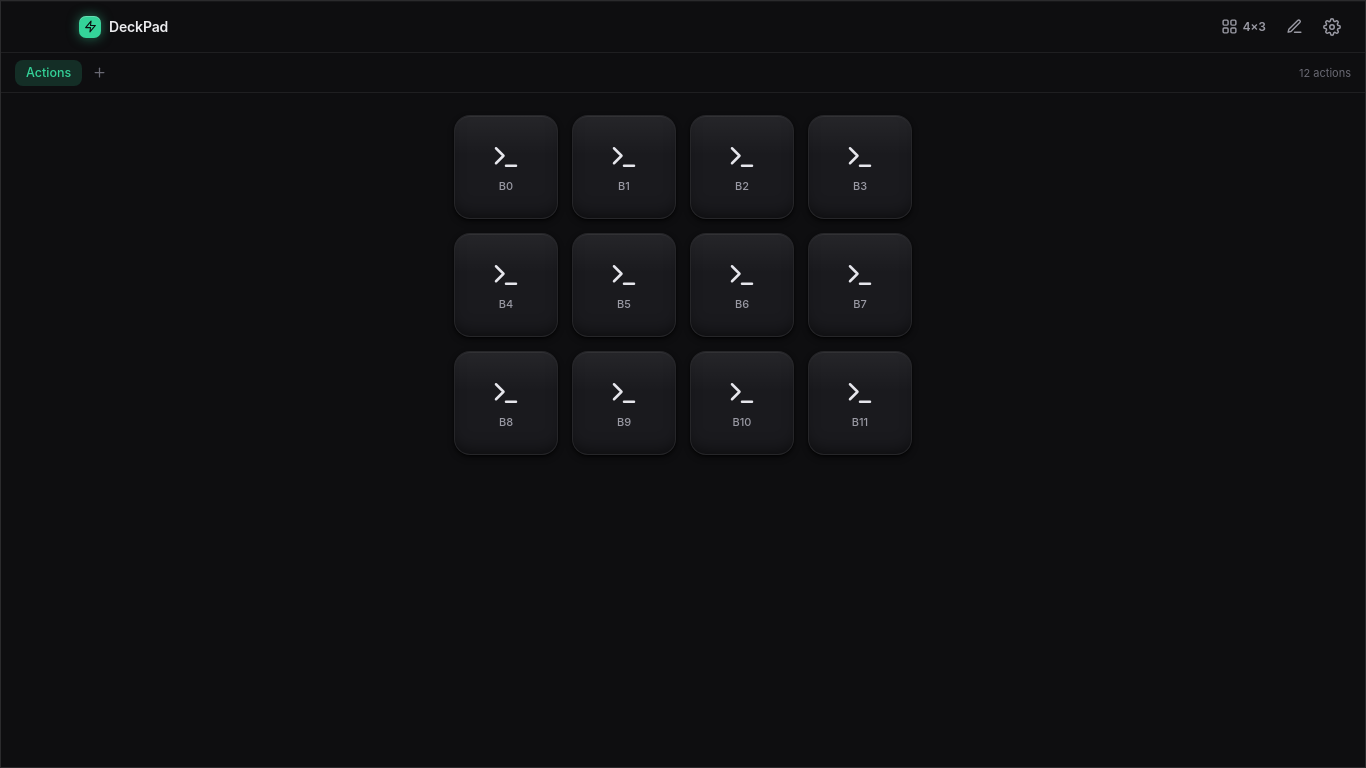
it: duplicate + groups › duplicate on a full grid shows the info toast instead
Right-click the button "B0" at (506, 167), box 454,115 -> 558,219
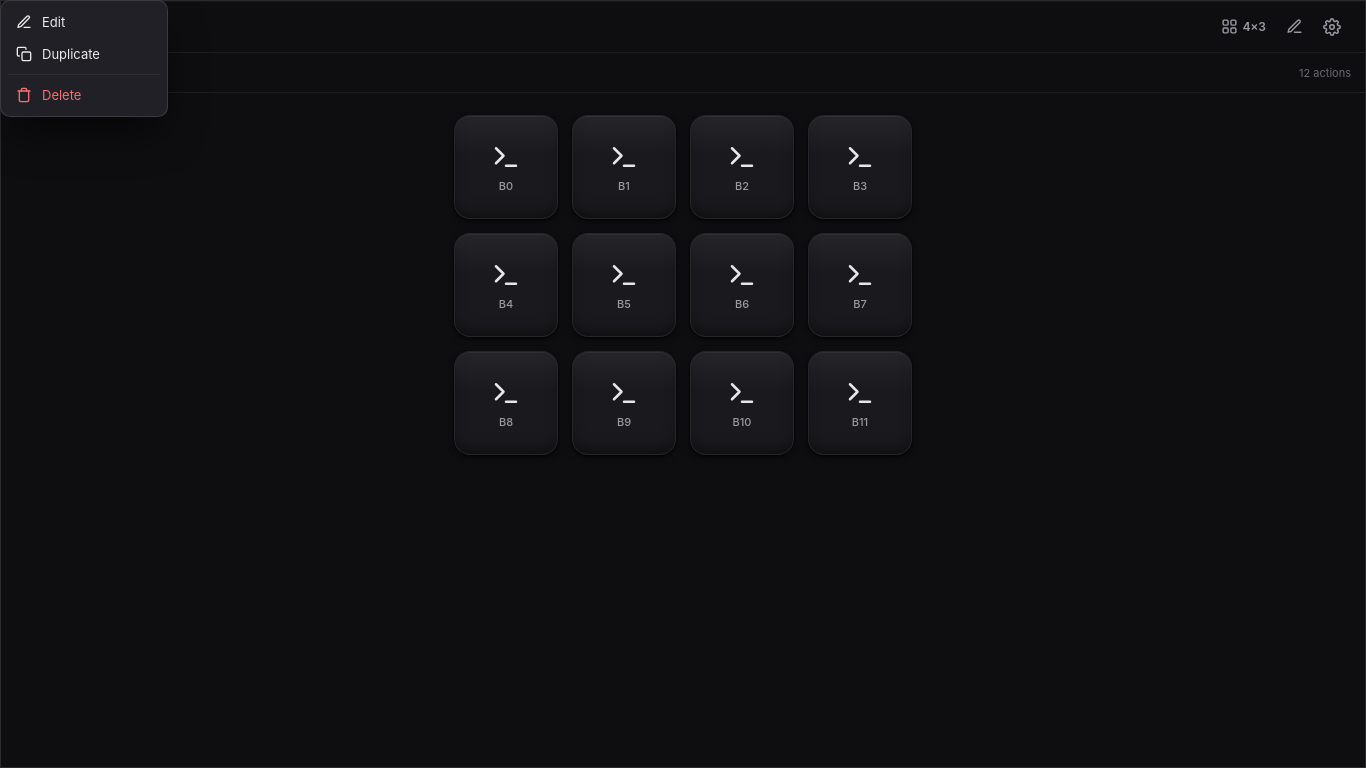
Click the button "Duplicate" at (84, 54), box 6,38 -> 162,70
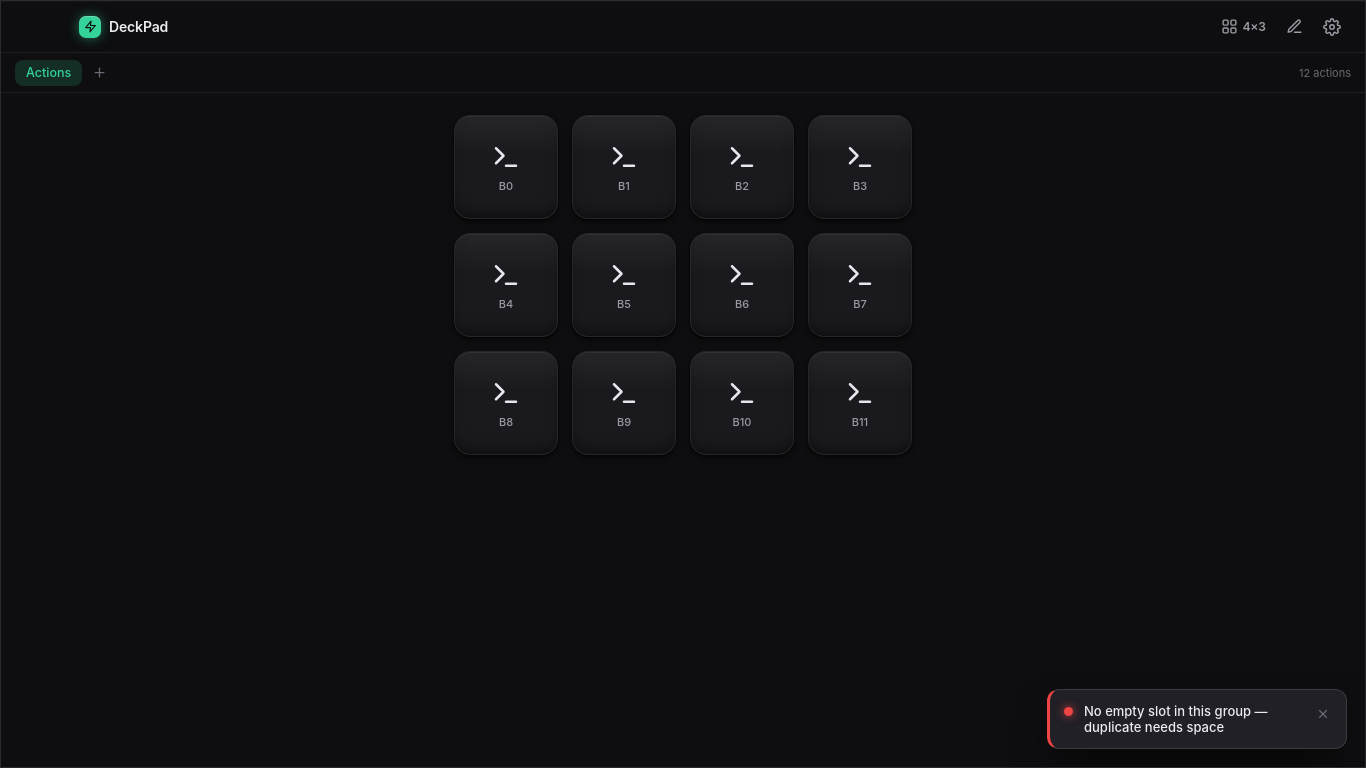
Now the text "No empty slot in this group — duplicate needs space" is shown, box 1084,703 -> 1299,735
